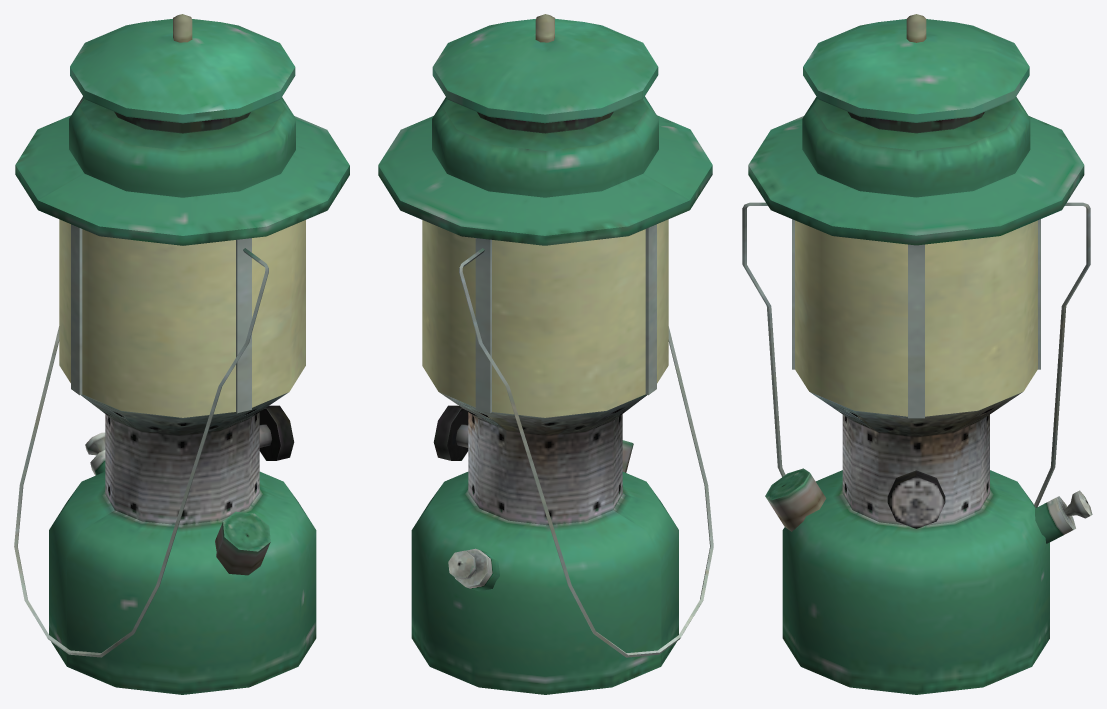
The model's file is lantern.glb.
The picture shows the model from 3 angles, left to right: view 1: azimuth 30°, elevation 25°; view 2: azimuth 150°, elevation 25°; view 3: azimuth 270°, elevation 25°; orthographic projection.
Visible parts, largest first — view 1: lantern; view 2: lantern; view 3: lantern.
Boxes of the visible parts, x1,y1,x2,y2 form: lantern: [14, 14, 349, 694]; lantern: [378, 14, 713, 694]; lantern: [742, 14, 1092, 694].
Size of the model in its own units: 0.1911 by 0.3943 by 0.2005.
2 materials, 2 textured.
